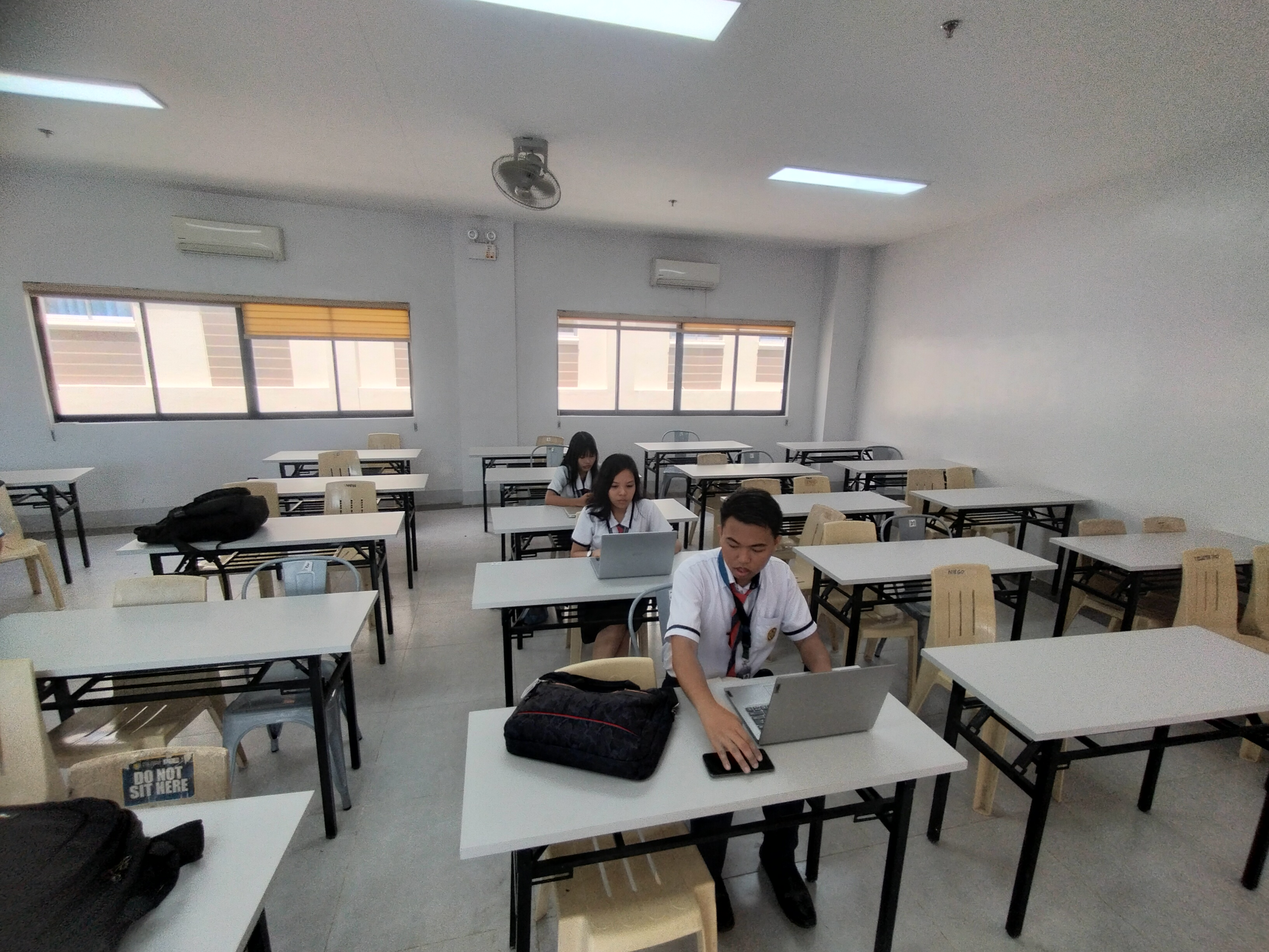with-student: (459, 479, 970, 893), (470, 452, 733, 631), (488, 428, 700, 541)
